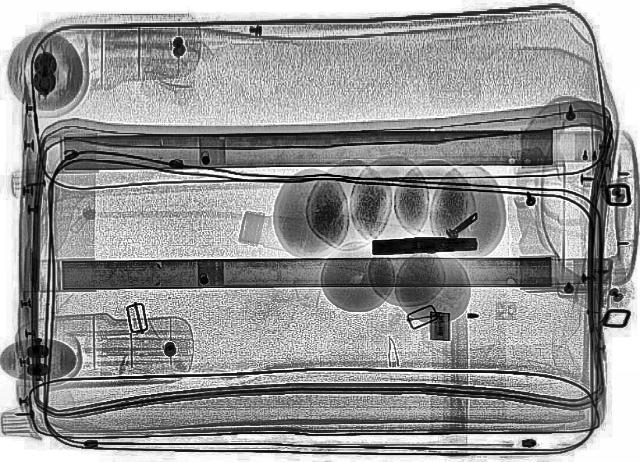Gun: (371, 235, 479, 253)
